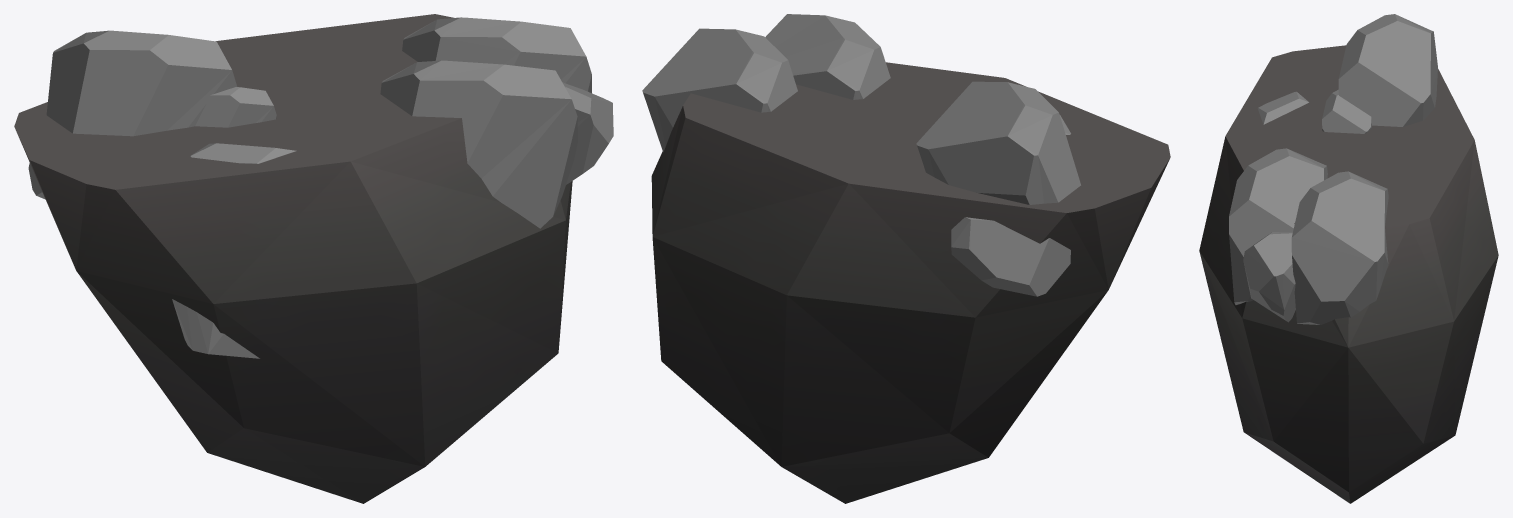
Rendered from Hill.FBX.
3 views of the same model, side by side, from view 1: azimuth 30°, elevation 25°; view 2: azimuth 150°, elevation 25°; view 3: azimuth 270°, elevation 25° (orthographic). The views are drawn at different scales.
Visible parts, largest first — view 1: Hill; view 2: Hill; view 3: Hill.
Boxes of the visible parts, x1,y1,x2,y2 form: Hill: [14, 14, 613, 503]; Hill: [642, 14, 1170, 503]; Hill: [1199, 14, 1498, 503].
Bounding box in the file's own units: 725 × 645 × 440.
Materials: 1 (1 with a texture image).
